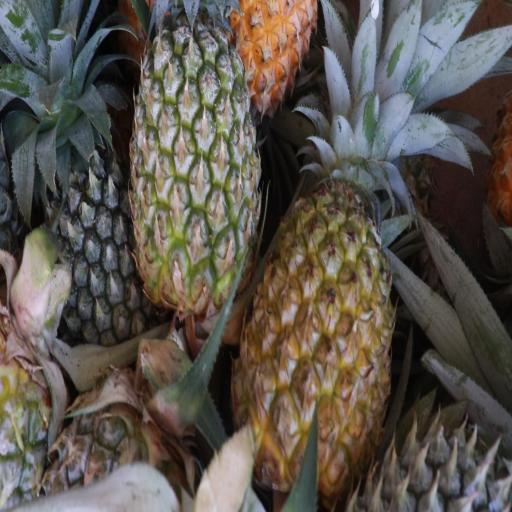------------------------------: (134, 22, 260, 308)
Pineapple - v8 v1: (243, 175, 403, 489), (220, 0, 318, 107)
